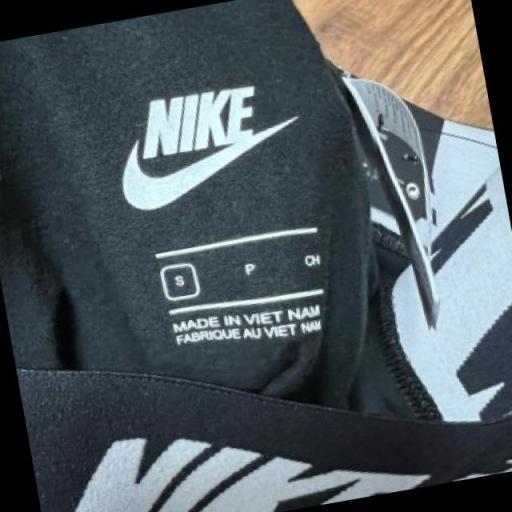Nike: (117, 135, 278, 215), (132, 82, 269, 160)
